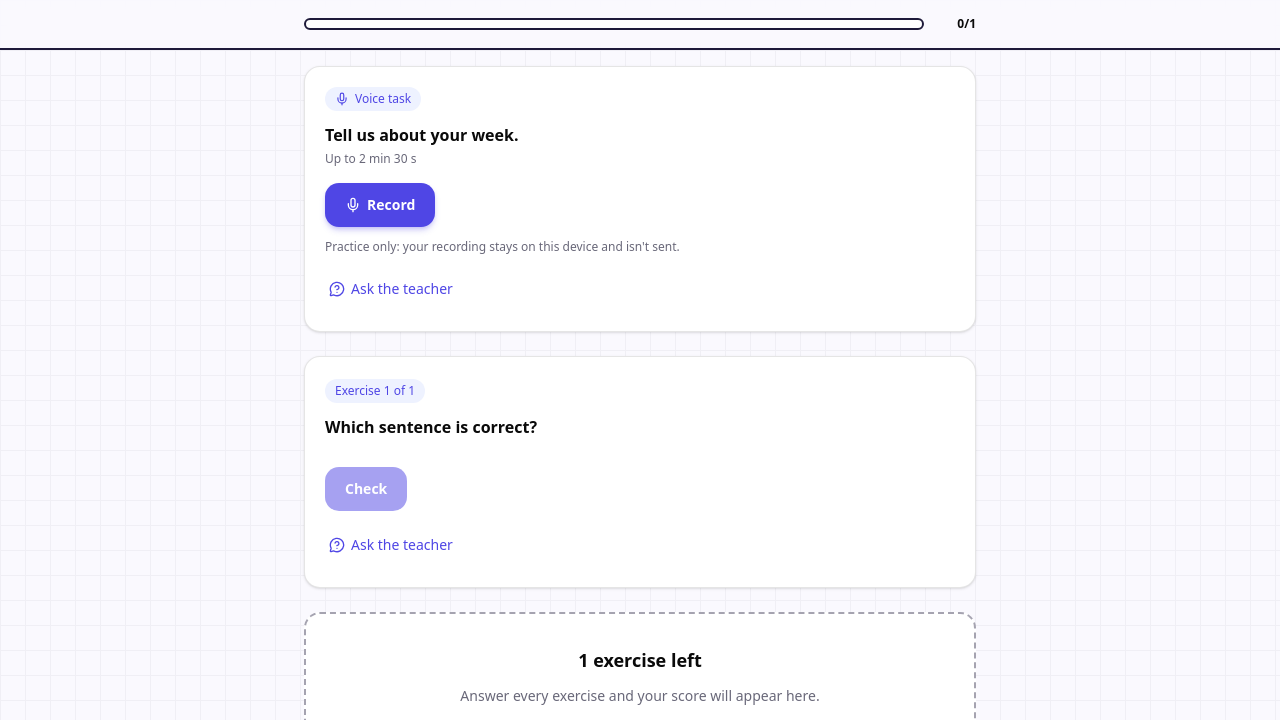
Scenario: LessonPlayer — Ask the teacher (TCH-006) › a refusal from the server is shown under the box and nothing is marked sent
Click the button "Ask the teacher" below "Which sentence is correct?" at (391, 545), box left=325, top=523, right=457, bottom=567
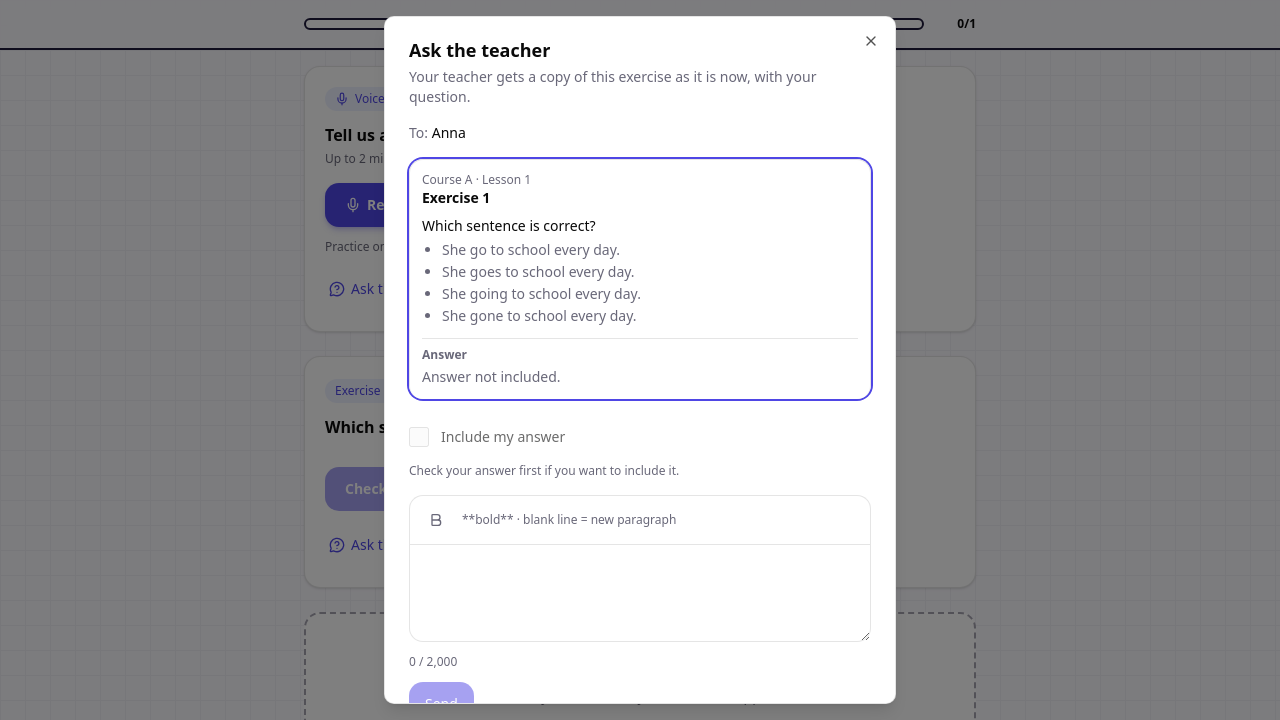
Type "Help" into the text box named "Your question" at (640, 593), box left=410, top=545, right=870, bottom=641
(page scrolled)
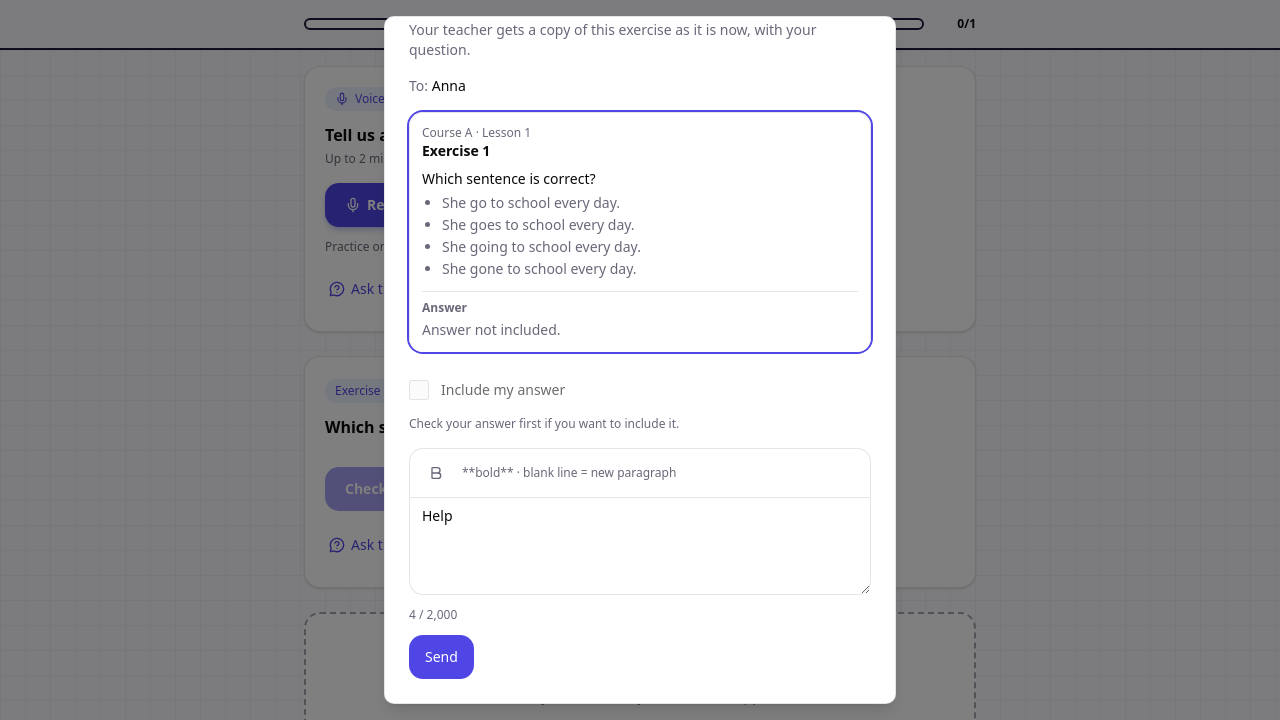
Click the button "Send" at (441, 657), box left=409, top=635, right=474, bottom=679
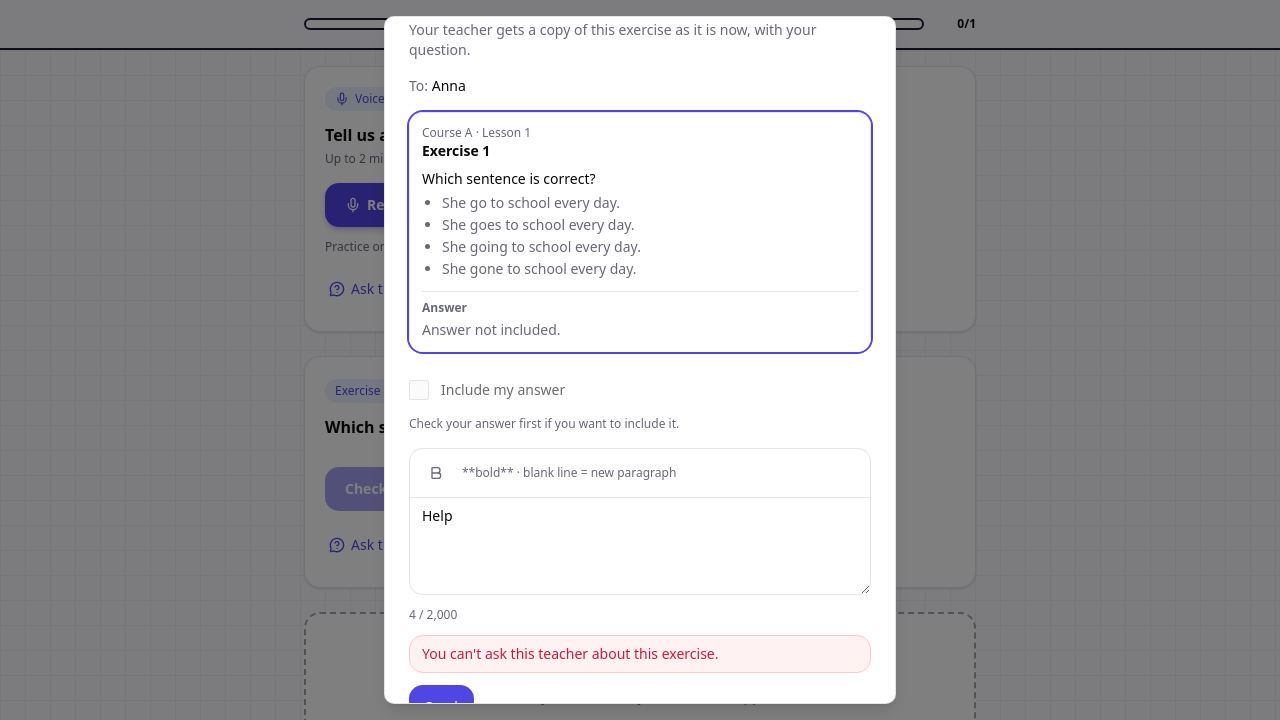
Expected: the text "You can't ask this teacher about this exercise." is shown, left=409, top=635, right=871, bottom=673
